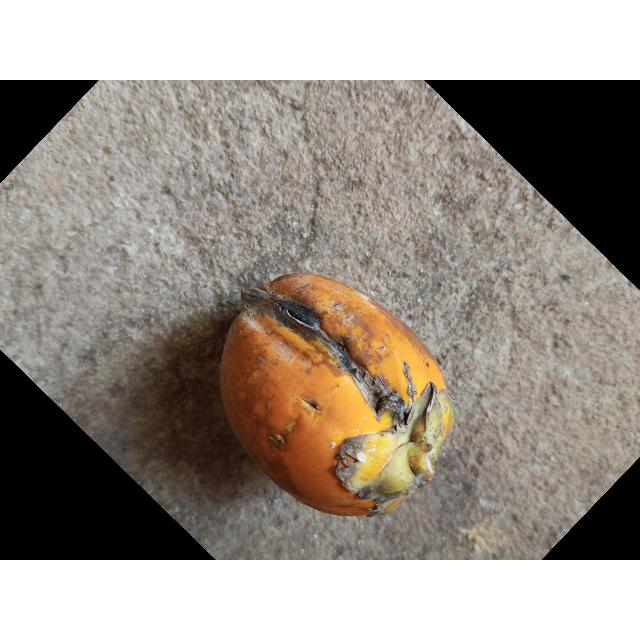damaged: (220, 274, 454, 515)
